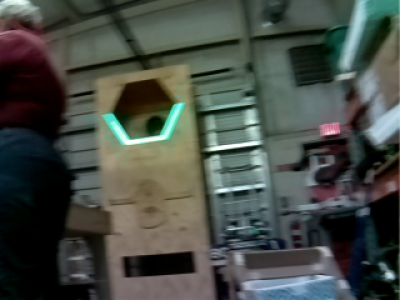target: (101, 102, 186, 144)
